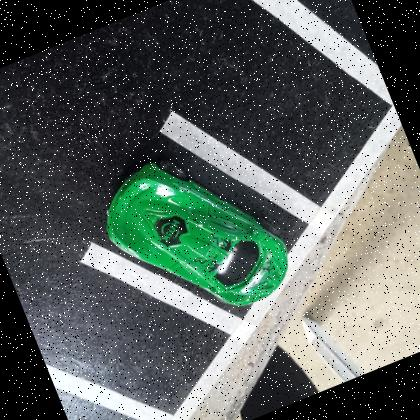Car: (106, 160, 288, 307)
